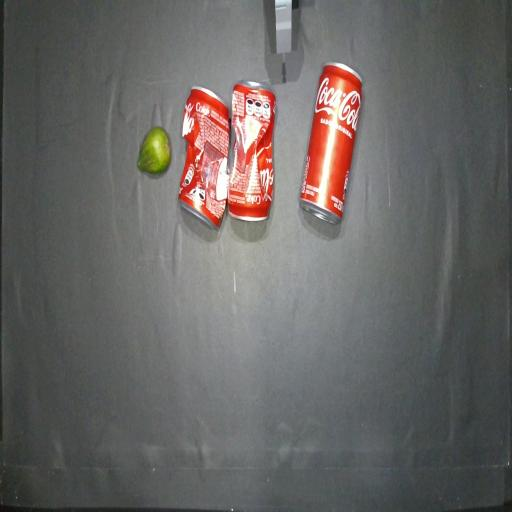higo: (138, 127, 170, 173)
lata: (299, 62, 361, 223)
lata_defectuoso: (179, 87, 230, 228), (228, 80, 275, 220)
